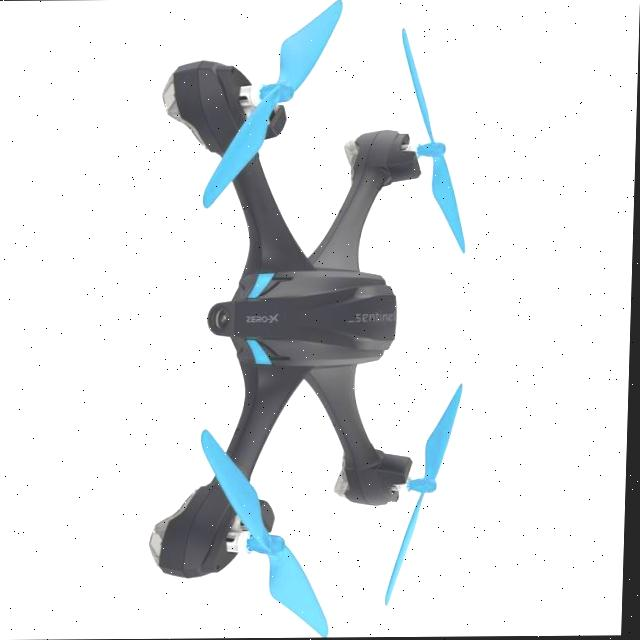drone: (143, 11, 468, 637)
